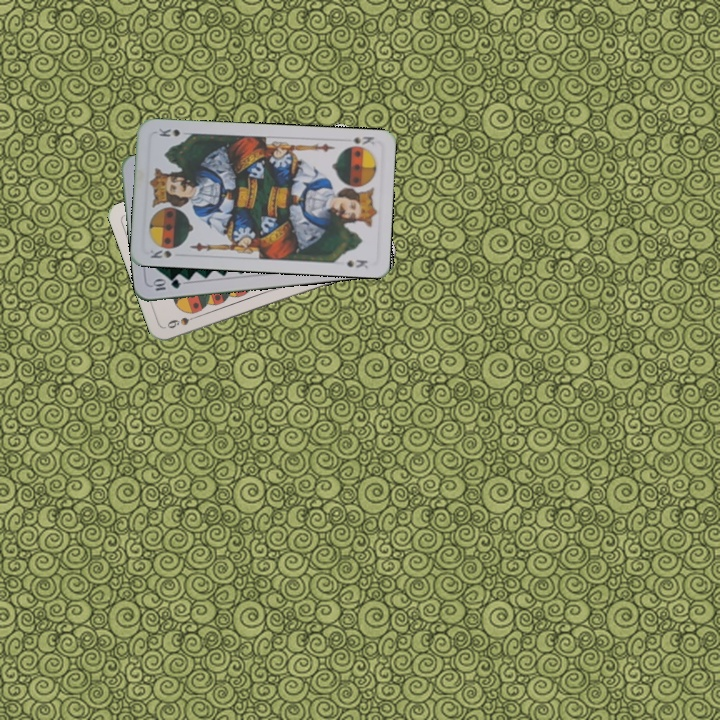G10: (148, 275, 183, 293)
S9: (163, 311, 202, 331)
SK: (348, 132, 377, 148), (146, 246, 174, 261)
